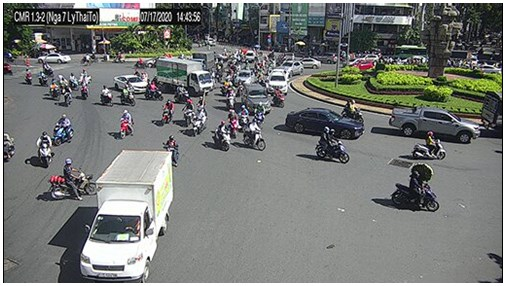xe_ban_tai: (387, 104, 479, 145)
xe_hoi: (283, 108, 363, 140), (240, 84, 271, 115), (113, 73, 150, 95), (278, 59, 303, 77), (268, 72, 288, 94), (36, 53, 71, 65), (298, 57, 320, 71), (236, 70, 254, 87), (352, 58, 372, 70)
xe_may: (50, 158, 97, 201), (389, 175, 441, 212), (314, 127, 350, 164), (410, 130, 444, 160), (242, 119, 265, 154), (51, 113, 74, 147), (338, 98, 365, 125), (35, 130, 53, 167), (163, 135, 182, 168), (212, 120, 231, 152), (189, 108, 208, 138), (118, 109, 135, 141), (143, 78, 165, 102), (225, 106, 239, 141), (159, 100, 176, 128), (172, 83, 192, 103), (251, 99, 264, 129), (270, 85, 286, 109), (98, 84, 114, 107), (237, 103, 249, 133), (180, 98, 192, 127), (218, 77, 235, 94), (196, 94, 208, 118), (47, 80, 61, 100), (227, 85, 237, 113), (40, 59, 53, 79), (62, 83, 73, 106), (36, 69, 50, 87), (79, 78, 90, 100), (68, 69, 79, 90), (131, 54, 145, 70), (24, 65, 33, 86), (112, 50, 125, 64), (79, 66, 89, 82), (79, 53, 92, 65)
xe_tai: (79, 148, 175, 281), (156, 58, 213, 95), (190, 52, 215, 71)
